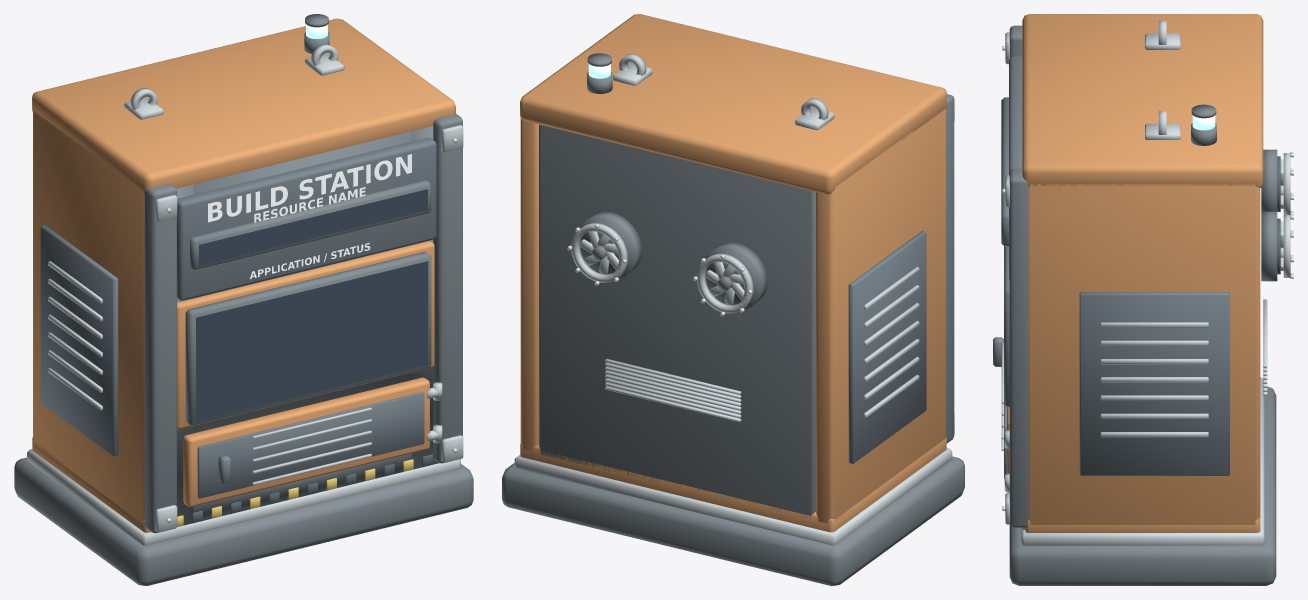
Rendered from build_station_enhanced.glb.
3 renders of one model, left to right at view 1: azimuth 30°, elevation 25°; view 2: azimuth 150°, elevation 25°; view 3: azimuth 270°, elevation 25°, orthographic. The views are drawn at different scales.
Parts seen in each view (by area): view 1: Roof_orange, LiveViewSurface_glass, SideWall_orange, Skid_frame, CornerPost_frame, FrontHeader_graphite, SideServicePanel_graphite, DoorMoving_Inset_graphite, DoorMoving_Panel_orange, SkidDeck_steel, LiveViewSurfaceFrame_frame, ResourceNameSurface_glass (+15 smaller); view 2: BackWall_frame, Roof_orange, SideWall_orange, Skid_frame, SideServicePanel_graphite, SkidDeck_steel, KickPlate_orange, RearFan_steel, RearVent_steel, CornerPost_frame, RearFan_frame, SideLouver_steel (+3 smaller); view 3: SideWall_orange, Roof_orange, SideServicePanel_graphite, Skid_frame, CornerPost_frame, SideLouver_steel, SkidDeck_steel, RearFan_frame, KickPlate_orange, FrontHeader_graphite, RearFan_steel, ResourceNameSurfaceFrame_frame (+7 smaller).
Boxes of the visible parts, x1,y1,x2,y2 form: Roof_orange: [32, 18, 455, 194]; LiveViewSurface_glass: [196, 261, 428, 421]; SideWall_orange: [33, 111, 144, 523]; Skid_frame: [14, 457, 473, 585]; CornerPost_frame: [144, 114, 462, 533]; FrontHeader_graphite: [177, 137, 436, 300]; SideServicePanel_graphite: [40, 225, 118, 456]; DoorMoving_Inset_graphite: [197, 392, 424, 498]; DoorMoving_Panel_orange: [183, 377, 429, 506]; SkidDeck_steel: [27, 449, 460, 545]; LiveViewSurfaceFrame_frame: [185, 251, 431, 425]; ResourceNameSurface_glass: [199, 189, 427, 265]; BackWall_frame: [539, 124, 815, 518]; Roof_orange: [520, 14, 946, 194]; SideWall_orange: [520, 109, 945, 523]; Skid_frame: [502, 456, 964, 585]; SideServicePanel_graphite: [848, 230, 926, 463]; SkidDeck_steel: [514, 447, 952, 545]; KickPlate_orange: [520, 437, 946, 532]; RearFan_steel: [571, 223, 753, 313]; RearVent_steel: [605, 359, 741, 422]; CornerPost_frame: [946, 94, 954, 443]; RearFan_frame: [579, 211, 767, 311]; SideLouver_steel: [864, 267, 919, 417]; SideWall_orange: [1028, 184, 1260, 524]; Roof_orange: [1022, 14, 1263, 188]; SideServicePanel_graphite: [1079, 292, 1229, 475]; Skid_frame: [1009, 386, 1276, 585]; CornerPost_frame: [1009, 25, 1028, 527]; SideLouver_steel: [1100, 322, 1208, 437]; SkidDeck_steel: [1021, 377, 1264, 545]; RearFan_frame: [1261, 149, 1277, 281]; KickPlate_orange: [1025, 518, 1260, 532]; FrontHeader_graphite: [1009, 56, 1022, 279]; RearFan_steel: [1280, 153, 1290, 277]; ResourceNameSurfaceFrame_frame: [1001, 97, 1008, 246].
Bounding box in the file's own units: 2 × 2.48 × 1.51.
